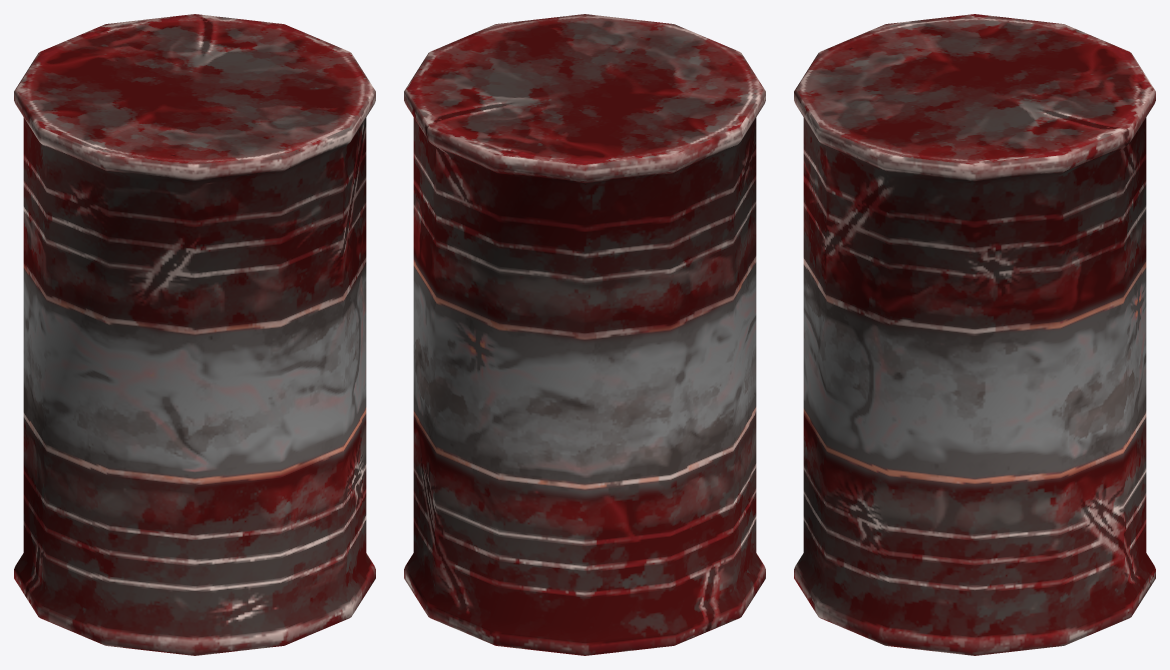
File: P_ExplosiveBarrel_1.gltf
The picture shows the model from 3 angles, left to right: view 1: azimuth 30°, elevation 25°; view 2: azimuth 150°, elevation 25°; view 3: azimuth 270°, elevation 25°; orthographic projection.
Parts seen in each view (by area): view 1: P_ExplosiveBarrel_1_low; view 2: P_ExplosiveBarrel_1_low; view 3: P_ExplosiveBarrel_1_low.
Part boxes in pixels (box(x1,y1,x2,y2)): P_ExplosiveBarrel_1_low: box(14, 14, 375, 655); P_ExplosiveBarrel_1_low: box(404, 14, 765, 655); P_ExplosiveBarrel_1_low: box(794, 14, 1155, 655).
Bounding box in the file's own units: 0.7392 × 1.11 × 0.7392.
1 material, 1 textured.
